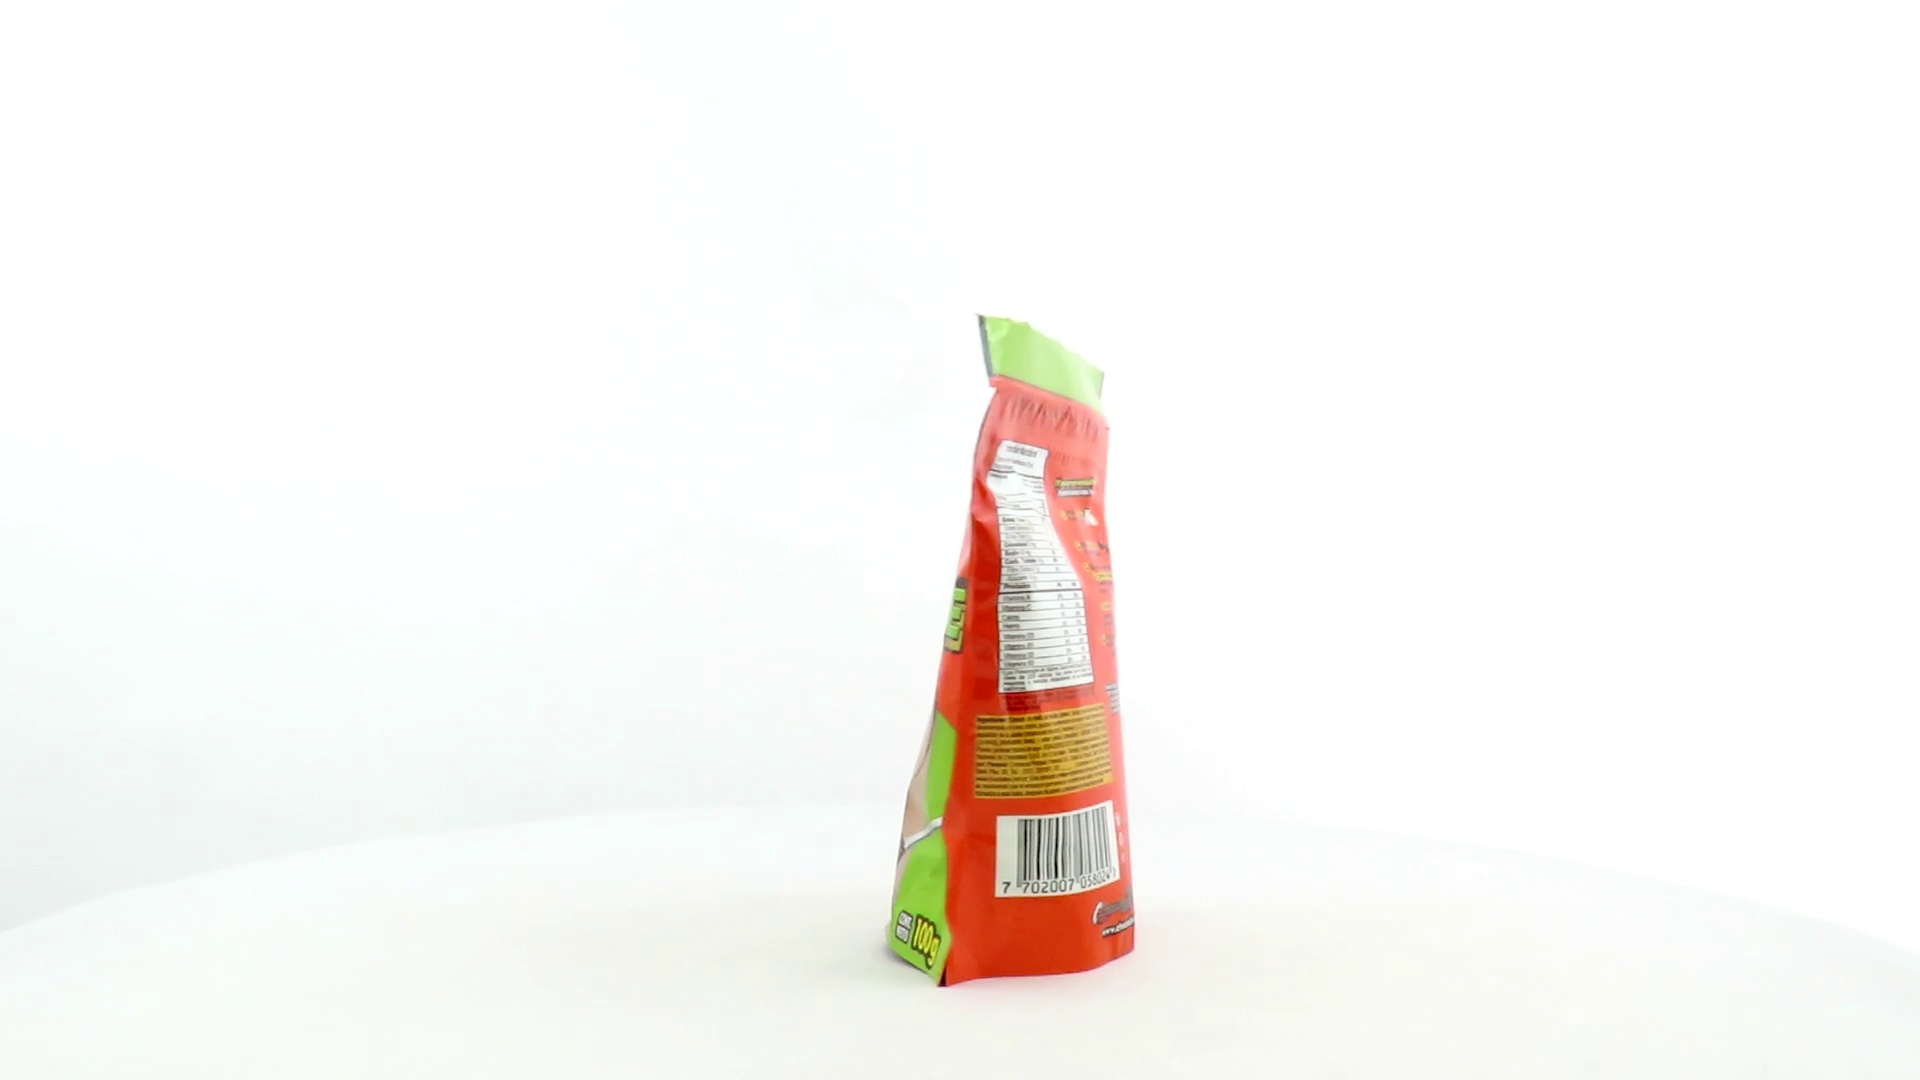COL0170102DYP10000: (880, 309, 1141, 993)
